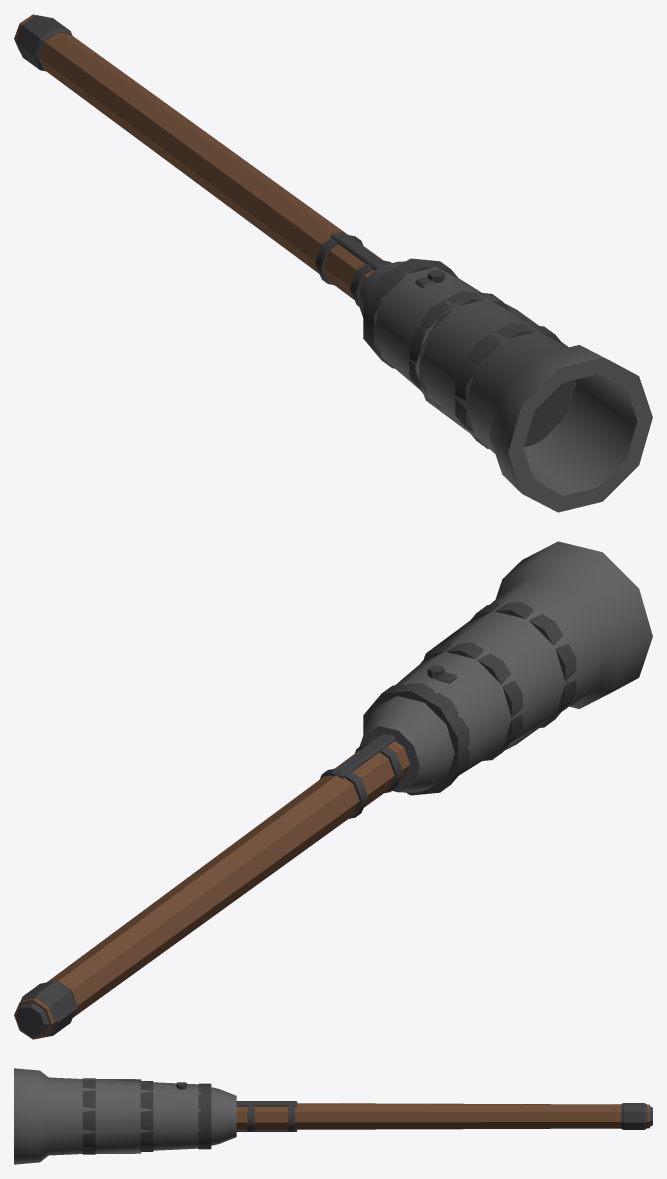
The model's file is handgonne.glb.
The picture shows the model from 3 angles, top to bottom: view 1: azimuth 30°, elevation 25°; view 2: azimuth 150°, elevation 25°; view 3: azimuth 270°, elevation 25°; orthographic projection. The views are drawn at different scales.
Parts seen in each view (by area): view 1: handgonne; view 2: handgonne; view 3: handgonne.
Part boxes in pixels (x1,y1,x2,y2): handgonne: [14, 14, 652, 512]; handgonne: [14, 541, 652, 1039]; handgonne: [14, 1068, 652, 1164].
Bounding box in the file's own units: 0.168 × 0.1598 × 1.1.
